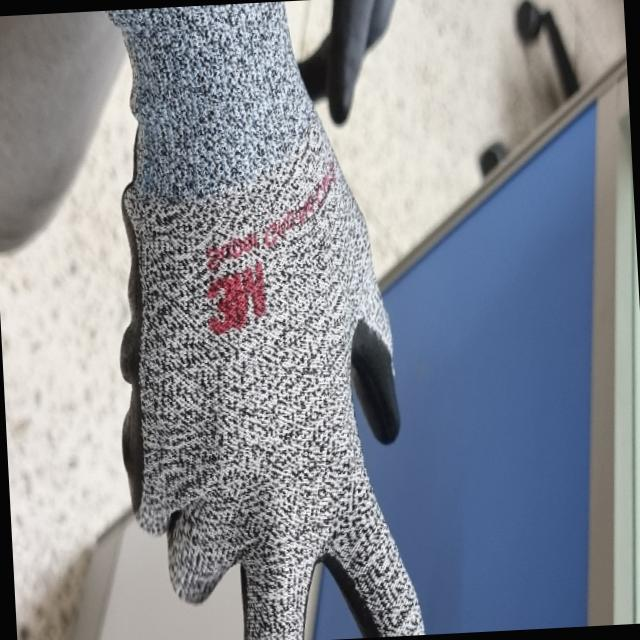Gloves: (121, 0, 406, 640)
